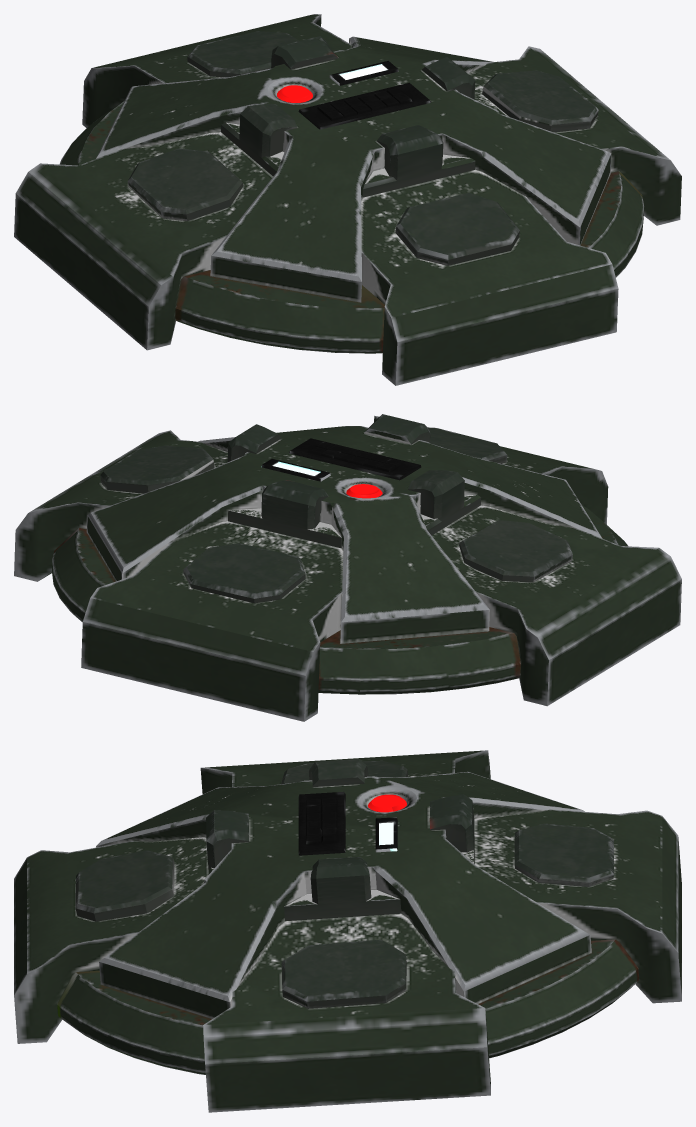
File: proximity_mine.glb
3 views of the same model, one above another, from view 1: azimuth 30°, elevation 25°; view 2: azimuth 150°, elevation 25°; view 3: azimuth 270°, elevation 25° (orthographic). The views are drawn at different scales.
Visible parts, largest first — view 1: Mine_Non_Combined2; view 2: Mine_Non_Combined2; view 3: Mine_Non_Combined2.
Boxes of the visible parts, <box> form: Mine_Non_Combined2: <box>14,14,681,385</box>; Mine_Non_Combined2: <box>14,414,681,721</box>; Mine_Non_Combined2: <box>14,750,681,1112</box>.
Bounding box in the file's own units: 7.37 × 2.2 × 7.4.
1 material, 1 textured.
